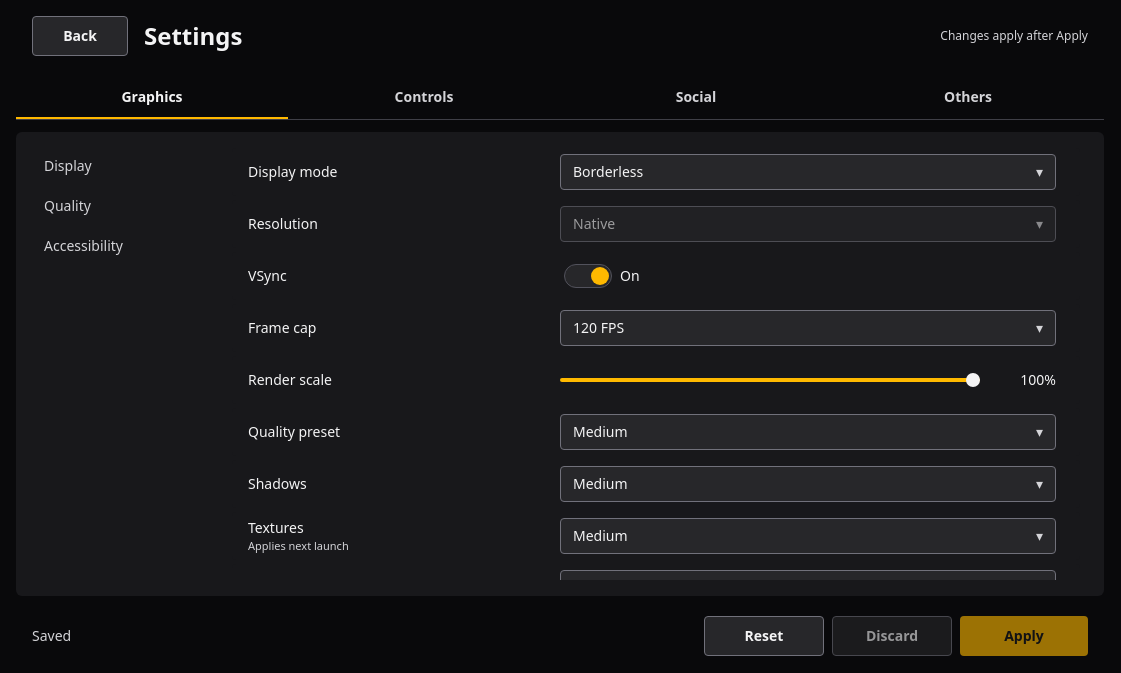
Test: SettingsScreen › Resolution is locked unless the display mode is windowed
The width and height of the screenshot is (1121, 673).
Check: the button named "Resolution" is disabled, box [560, 206, 1056, 242]
Click the button named "Display mode" at x=608, y=172, box [560, 154, 1056, 190]
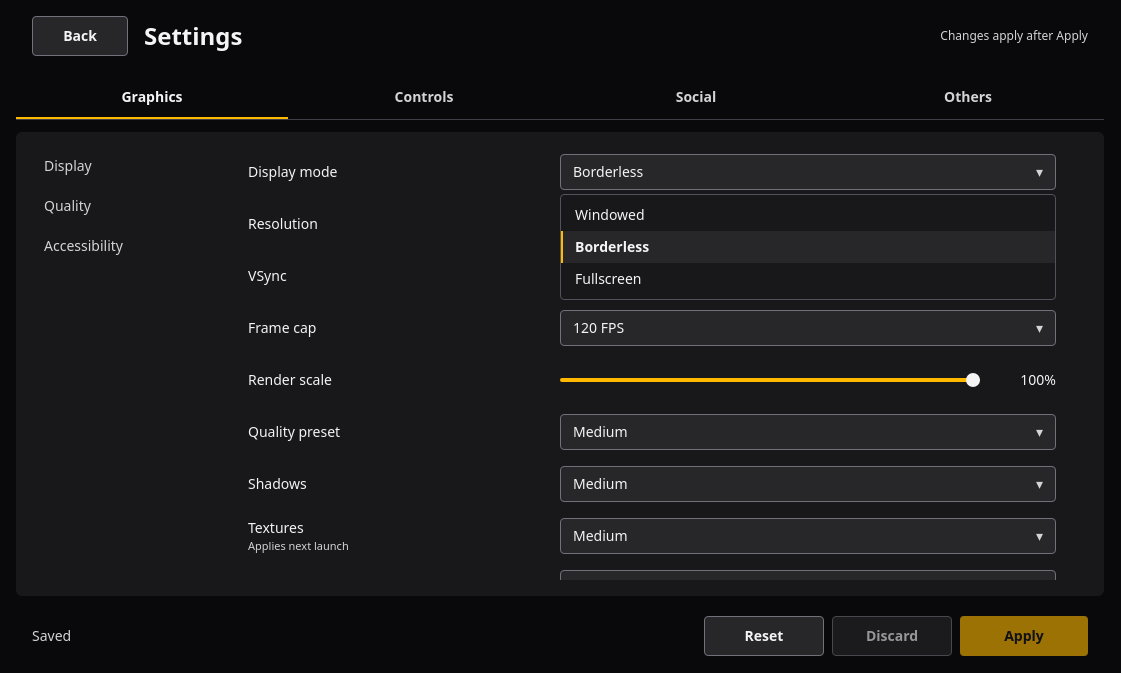
Click the option "Windowed" at x=610, y=214, box [575, 205, 645, 224]
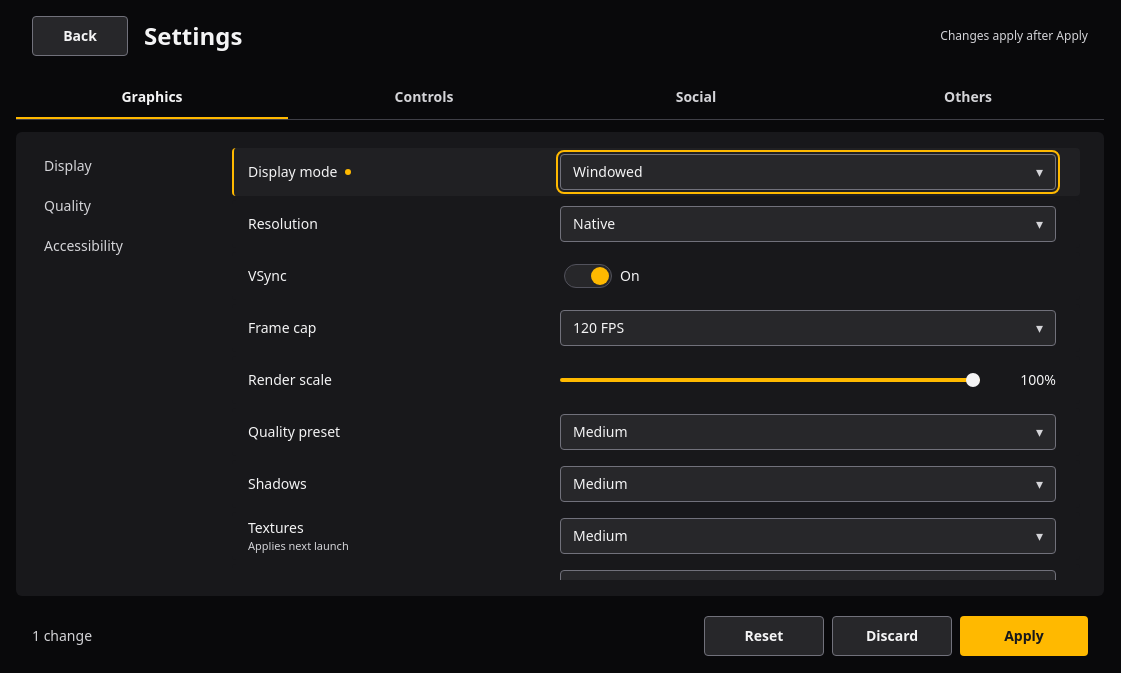
Check: the button named "Resolution" is enabled, box [560, 206, 1056, 242]
